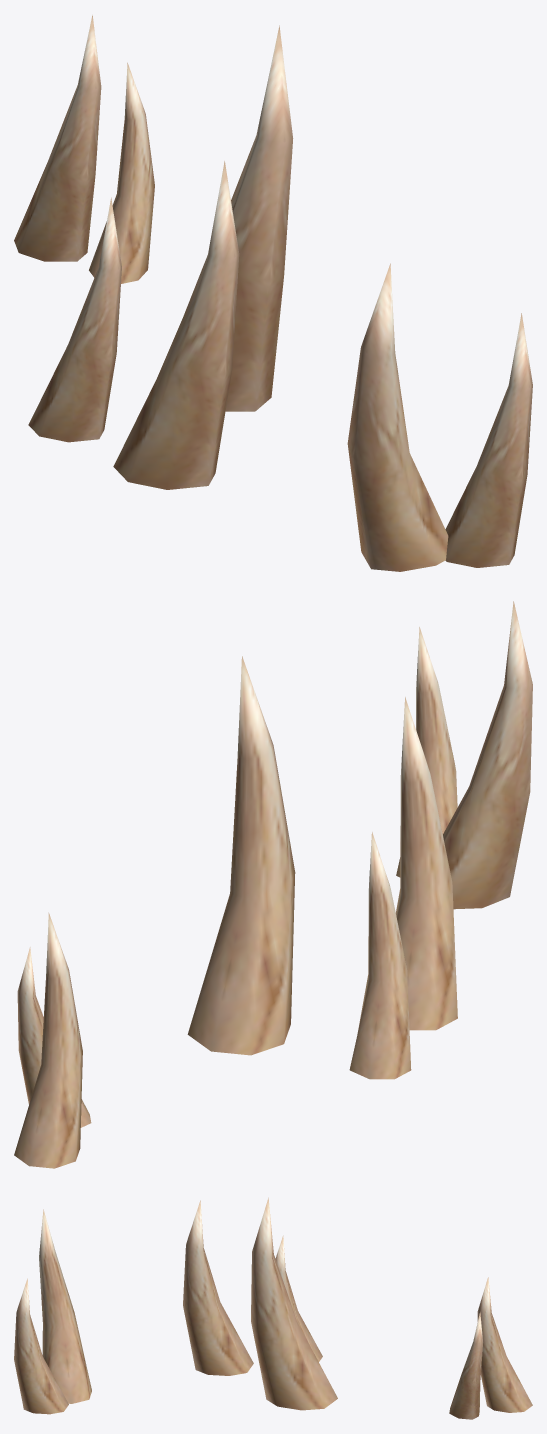
File: area_09_15.fbx
3 renders of one model, top to bottom at view 1: azimuth 30°, elevation 25°; view 2: azimuth 150°, elevation 25°; view 3: azimuth 270°, elevation 25°, orthographic. The views are drawn at different scales.
Visible parts, largest first — view 1: area_09_15; view 2: area_09_15; view 3: area_09_15.
Part boxes in pixels (x1,y1,x2,y2): area_09_15: [14, 15, 532, 571]; area_09_15: [14, 601, 532, 1168]; area_09_15: [14, 1197, 532, 1419].
Size of the model in its own units: 17.78 by 24 by 53.65.
